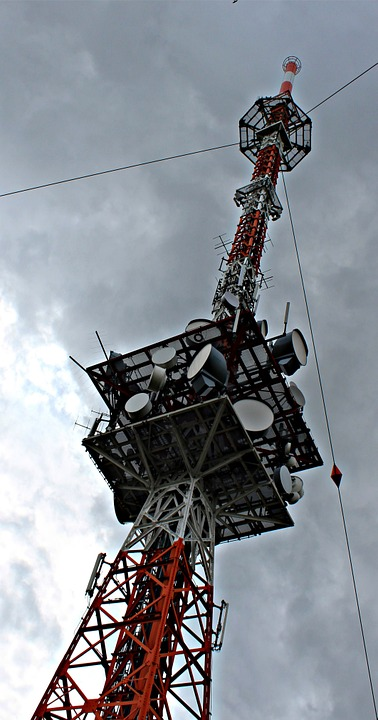b: (232, 394, 278, 439), (187, 348, 228, 390), (278, 329, 307, 375), (121, 392, 152, 418), (275, 463, 295, 494), (152, 346, 178, 369)
